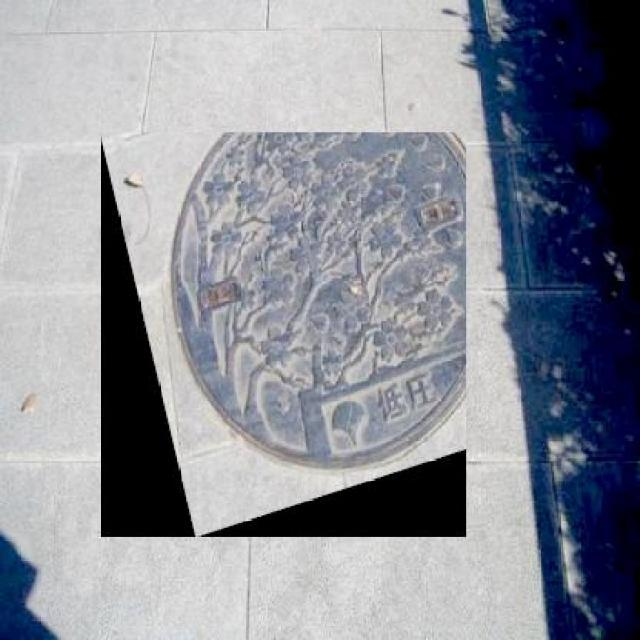Manhole: (100, 132, 467, 538)
